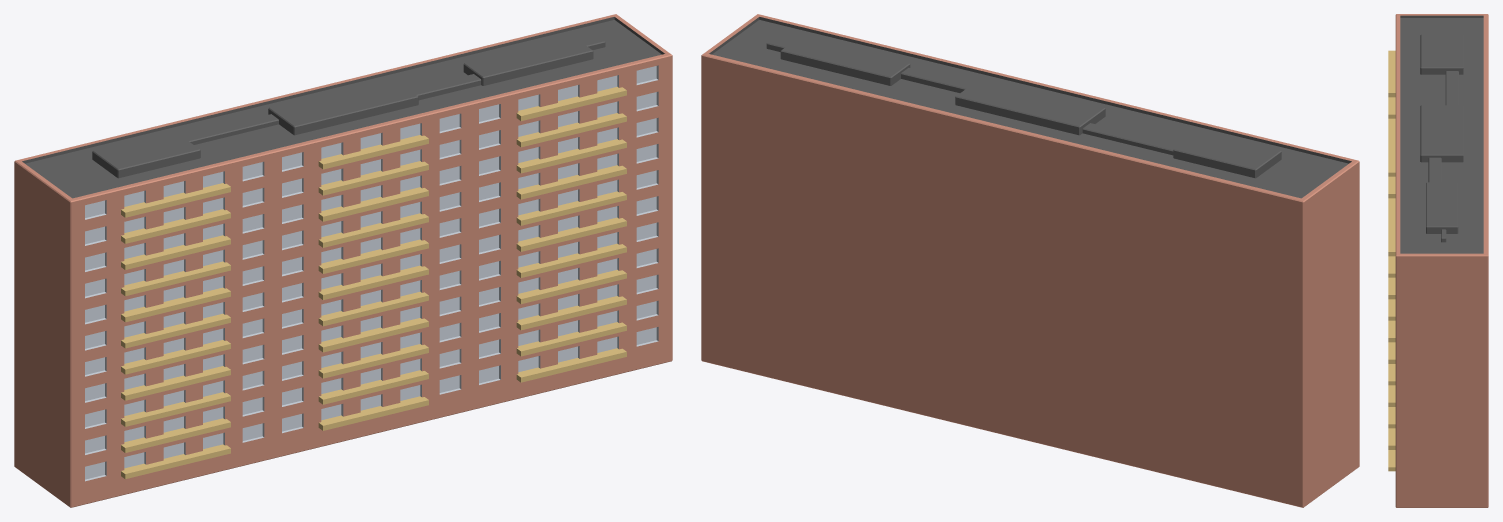
The model's file is etrimo.gltf.
The picture shows the model from 3 angles, left to right: view 1: azimuth 30°, elevation 25°; view 2: azimuth 150°, elevation 25°; view 3: azimuth 270°, elevation 25°; orthographic projection. The views are drawn at different scales.
Parts seen in each view (by area): view 1: omhulsel, ramen, balkonnen, binnendak, dakfuntie; view 2: omhulsel, binnendak, dakfuntie; view 3: omhulsel, binnendak, dakfuntie, balkonnen.
Boxes of the visible parts, x1,y1,x2,y2 form: omhulsel: (14,14,672,507); ramen: (85,65,658,481); balkonnen: (121,86,626,479); binnendak: (22,17,664,198); dakfuntie: (92,36,605,178); omhulsel: (701,14,1359,507); binnendak: (709,17,1351,198); dakfuntie: (766,36,1281,178); omhulsel: (1395,14,1488,507); binnendak: (1400,15,1483,253); dakfuntie: (1420,34,1463,242); balkonnen: (1388,50,1395,471).
Bounding box in the file's own units: 7400 × 3667 × 1293.
